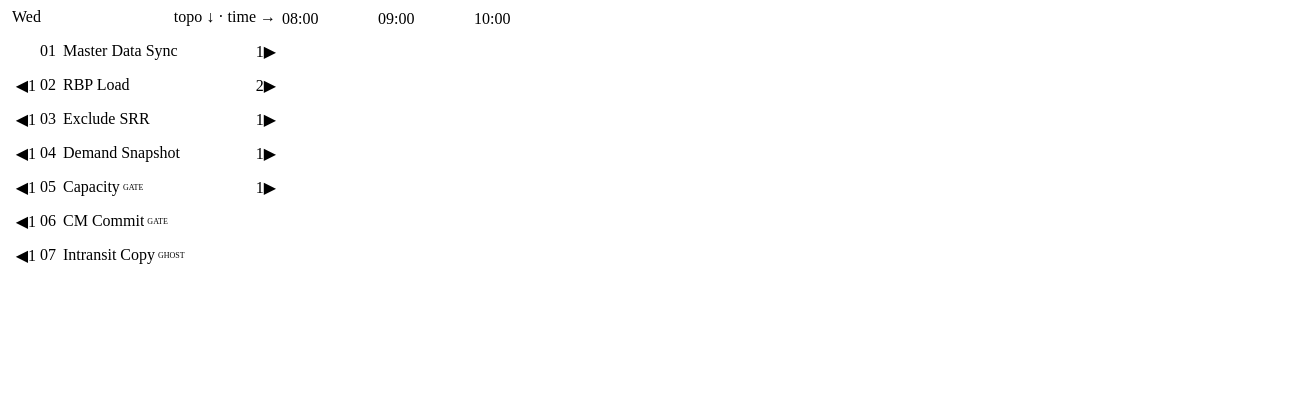
Scenario: CascadeTimeline › keeps only one ego-graph open at a time
Click the button "◀1 03 Exclude SRR 1▶". click: (106, 118)
box: [12,102,1292,136]
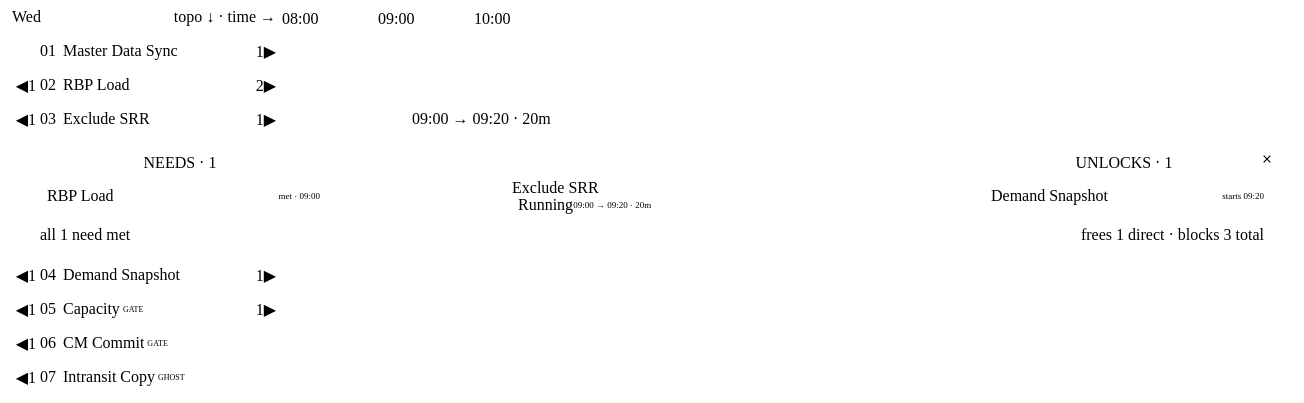
Now the element named "Dependencies for Exclude SRR" is shown, box [12,136,1292,258]
Click the button "◀1 04 Demand Snapshot 1▶". click: (121, 274)
box: [12,258,1292,292]
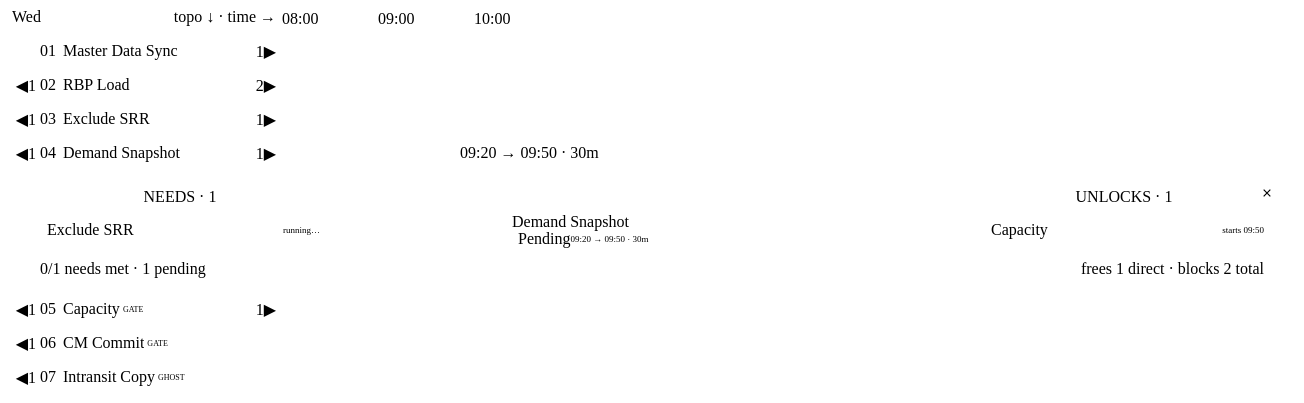
Now the element named "Dependencies for Demand Snapshot" is shown, box [12,170,1292,292]
